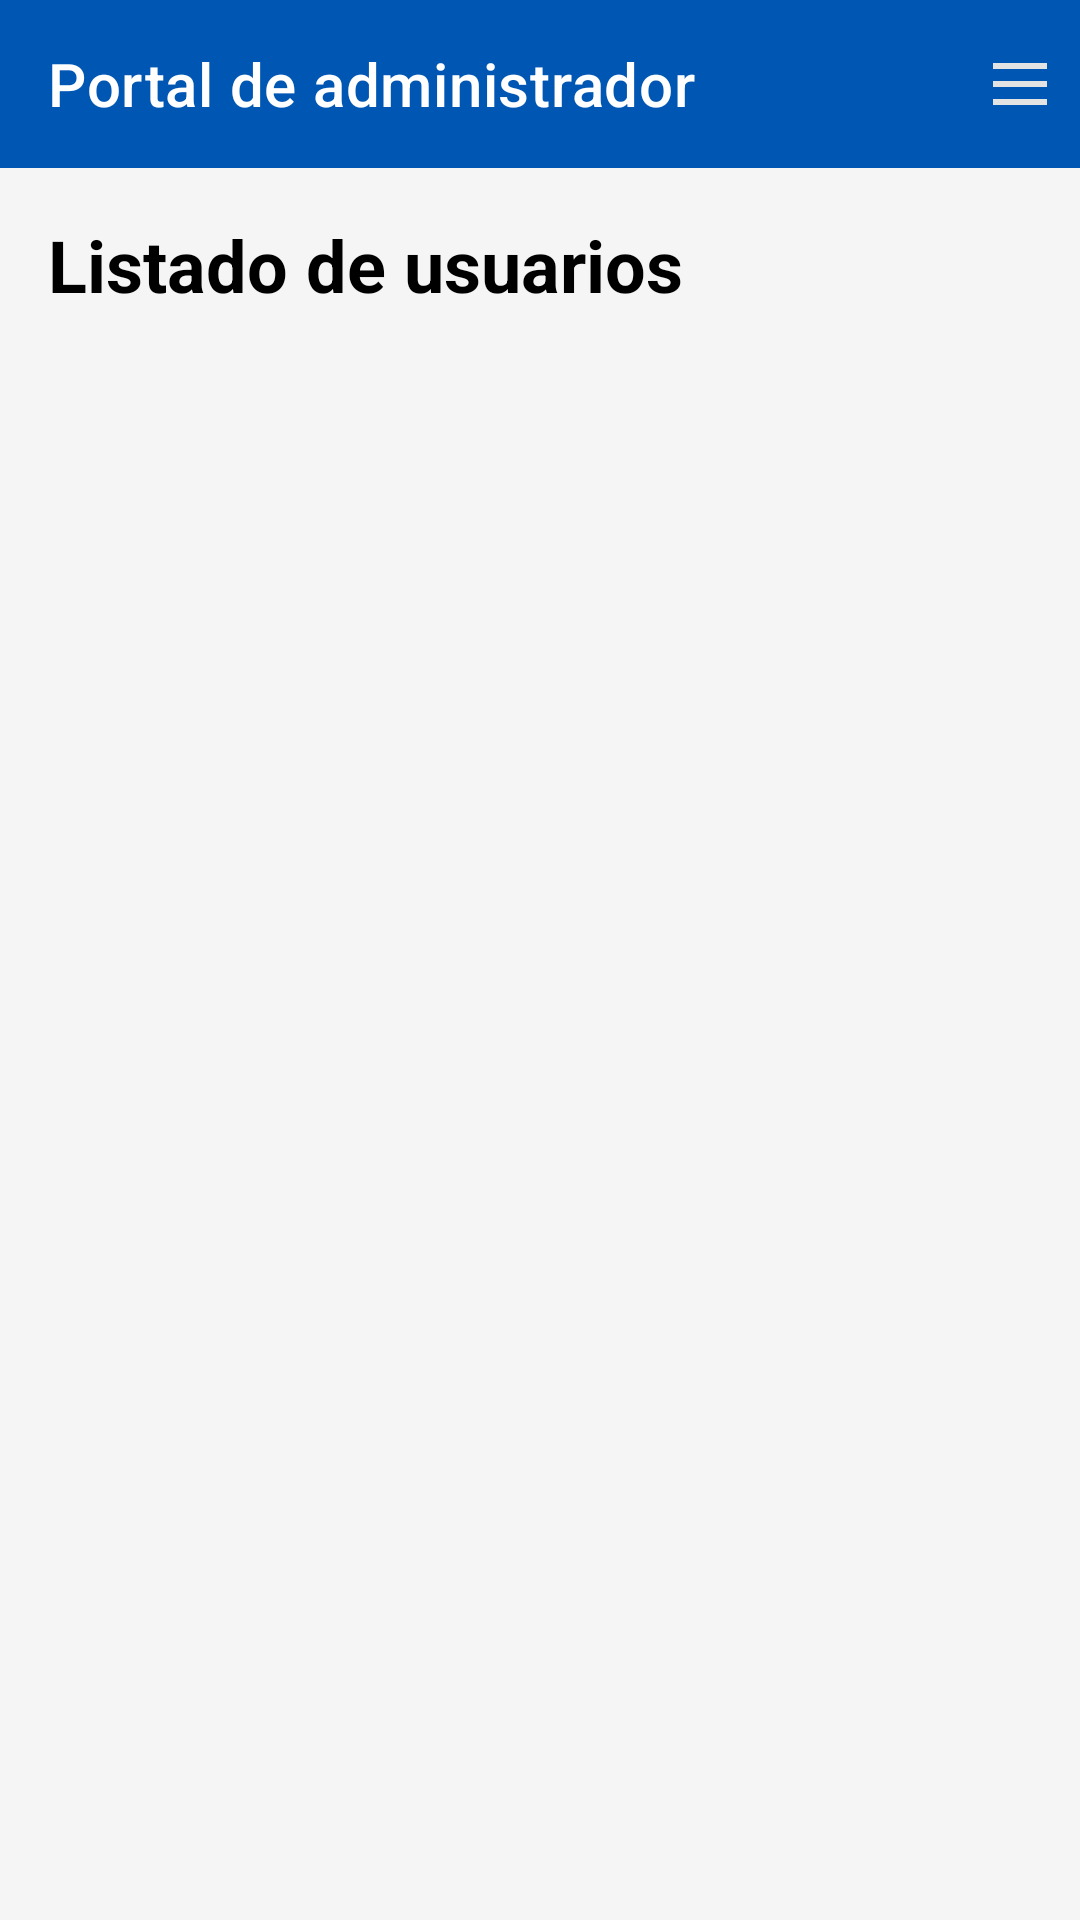

Icon click points for this 1080*1920 phone screenshot, format (x,y):
Más opciones: (1020,84)
